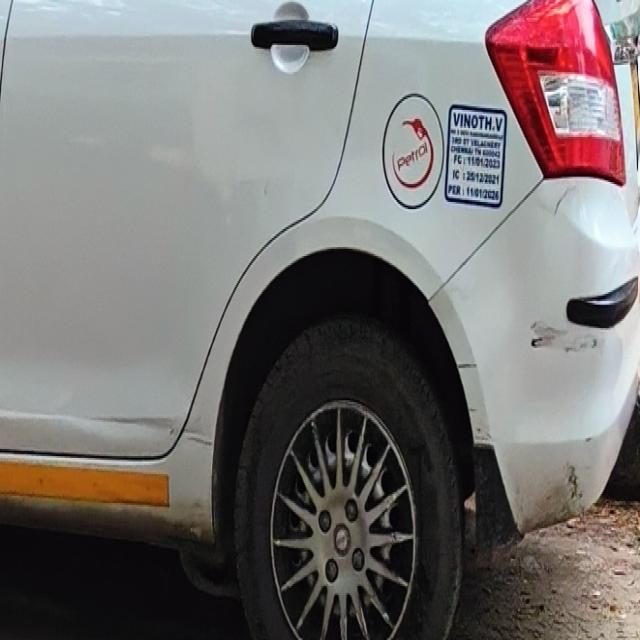scratch: (80, 396, 206, 459), (525, 306, 598, 378), (454, 353, 495, 456), (549, 178, 583, 226)
